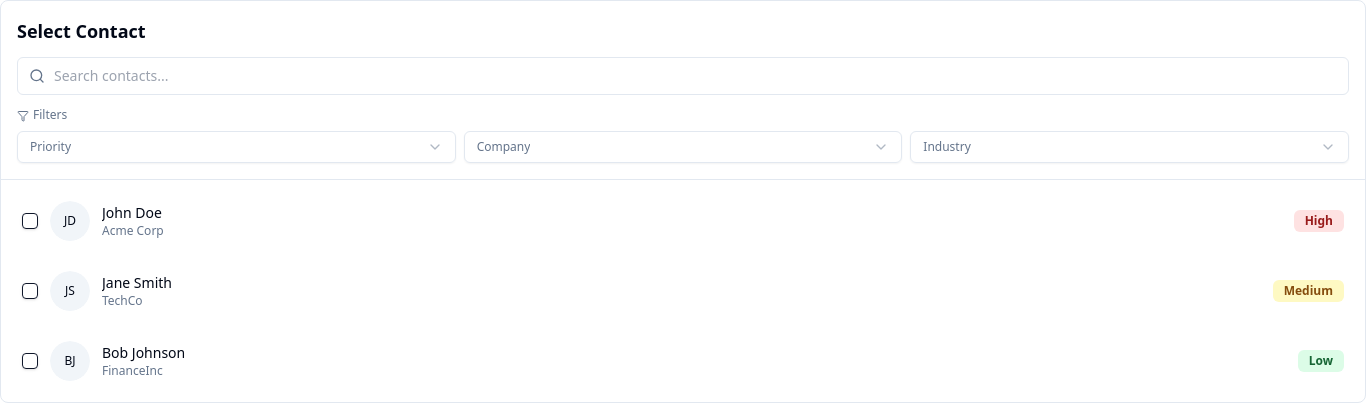
ContactSidebar › Search › filters contacts by email
Step 1. Type "jane@" into the field with placeholder "Search contacts..." → (683, 76), box left=17, top=57, right=1349, bottom=95
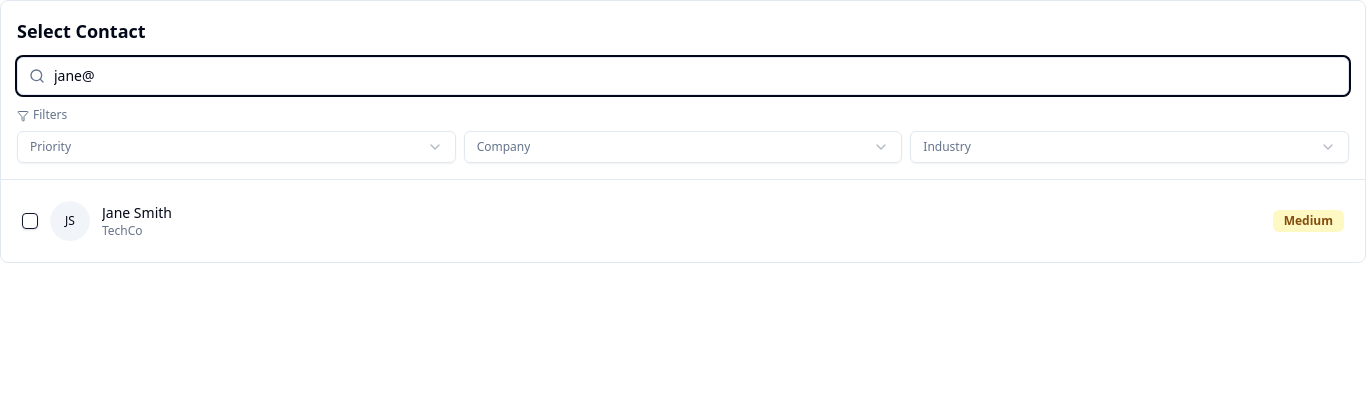
Expected: the text "Jane Smith" is shown, left=102, top=203, right=172, bottom=222
Expected: the text "John Doe" is gone
